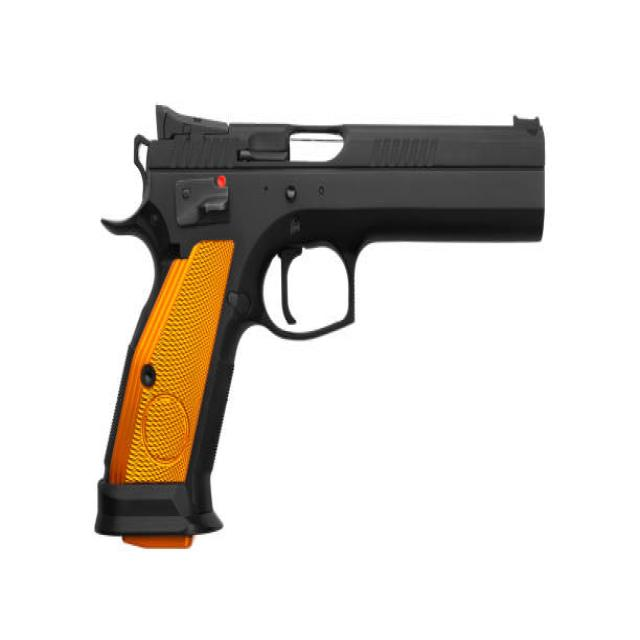pistol: (94, 97, 548, 553)
